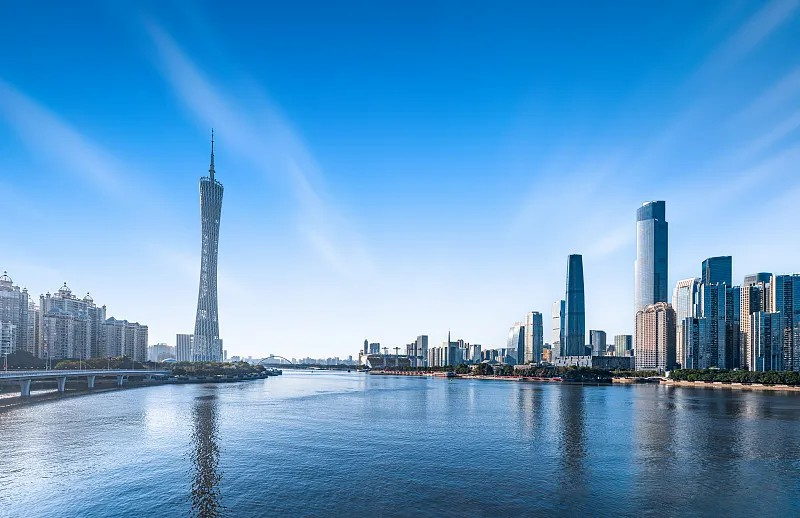Canton: (191, 127, 226, 366)
